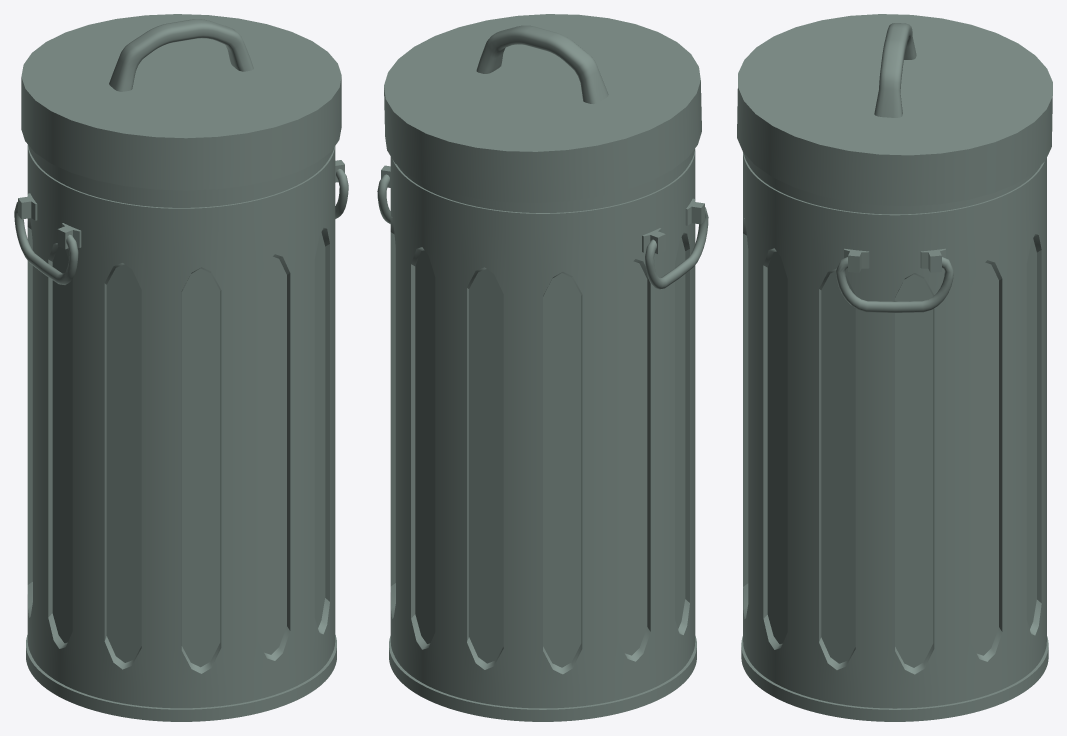
File: bin_block.glb
The picture shows the model from 3 angles, left to right: view 1: azimuth 30°, elevation 25°; view 2: azimuth 150°, elevation 25°; view 3: azimuth 270°, elevation 25°; orthographic projection.
Parts seen in each view (by area): view 1: KOva; view 2: KOva; view 3: KOva.
Boxes of the visible parts, bbox=[...] form: KOva: bbox=[14, 14, 348, 721]; KOva: bbox=[377, 14, 708, 721]; KOva: bbox=[737, 14, 1052, 721].
Bounding box in the file's own units: 0.94 × 2 × 0.9178.
2 materials, 2 textured.
